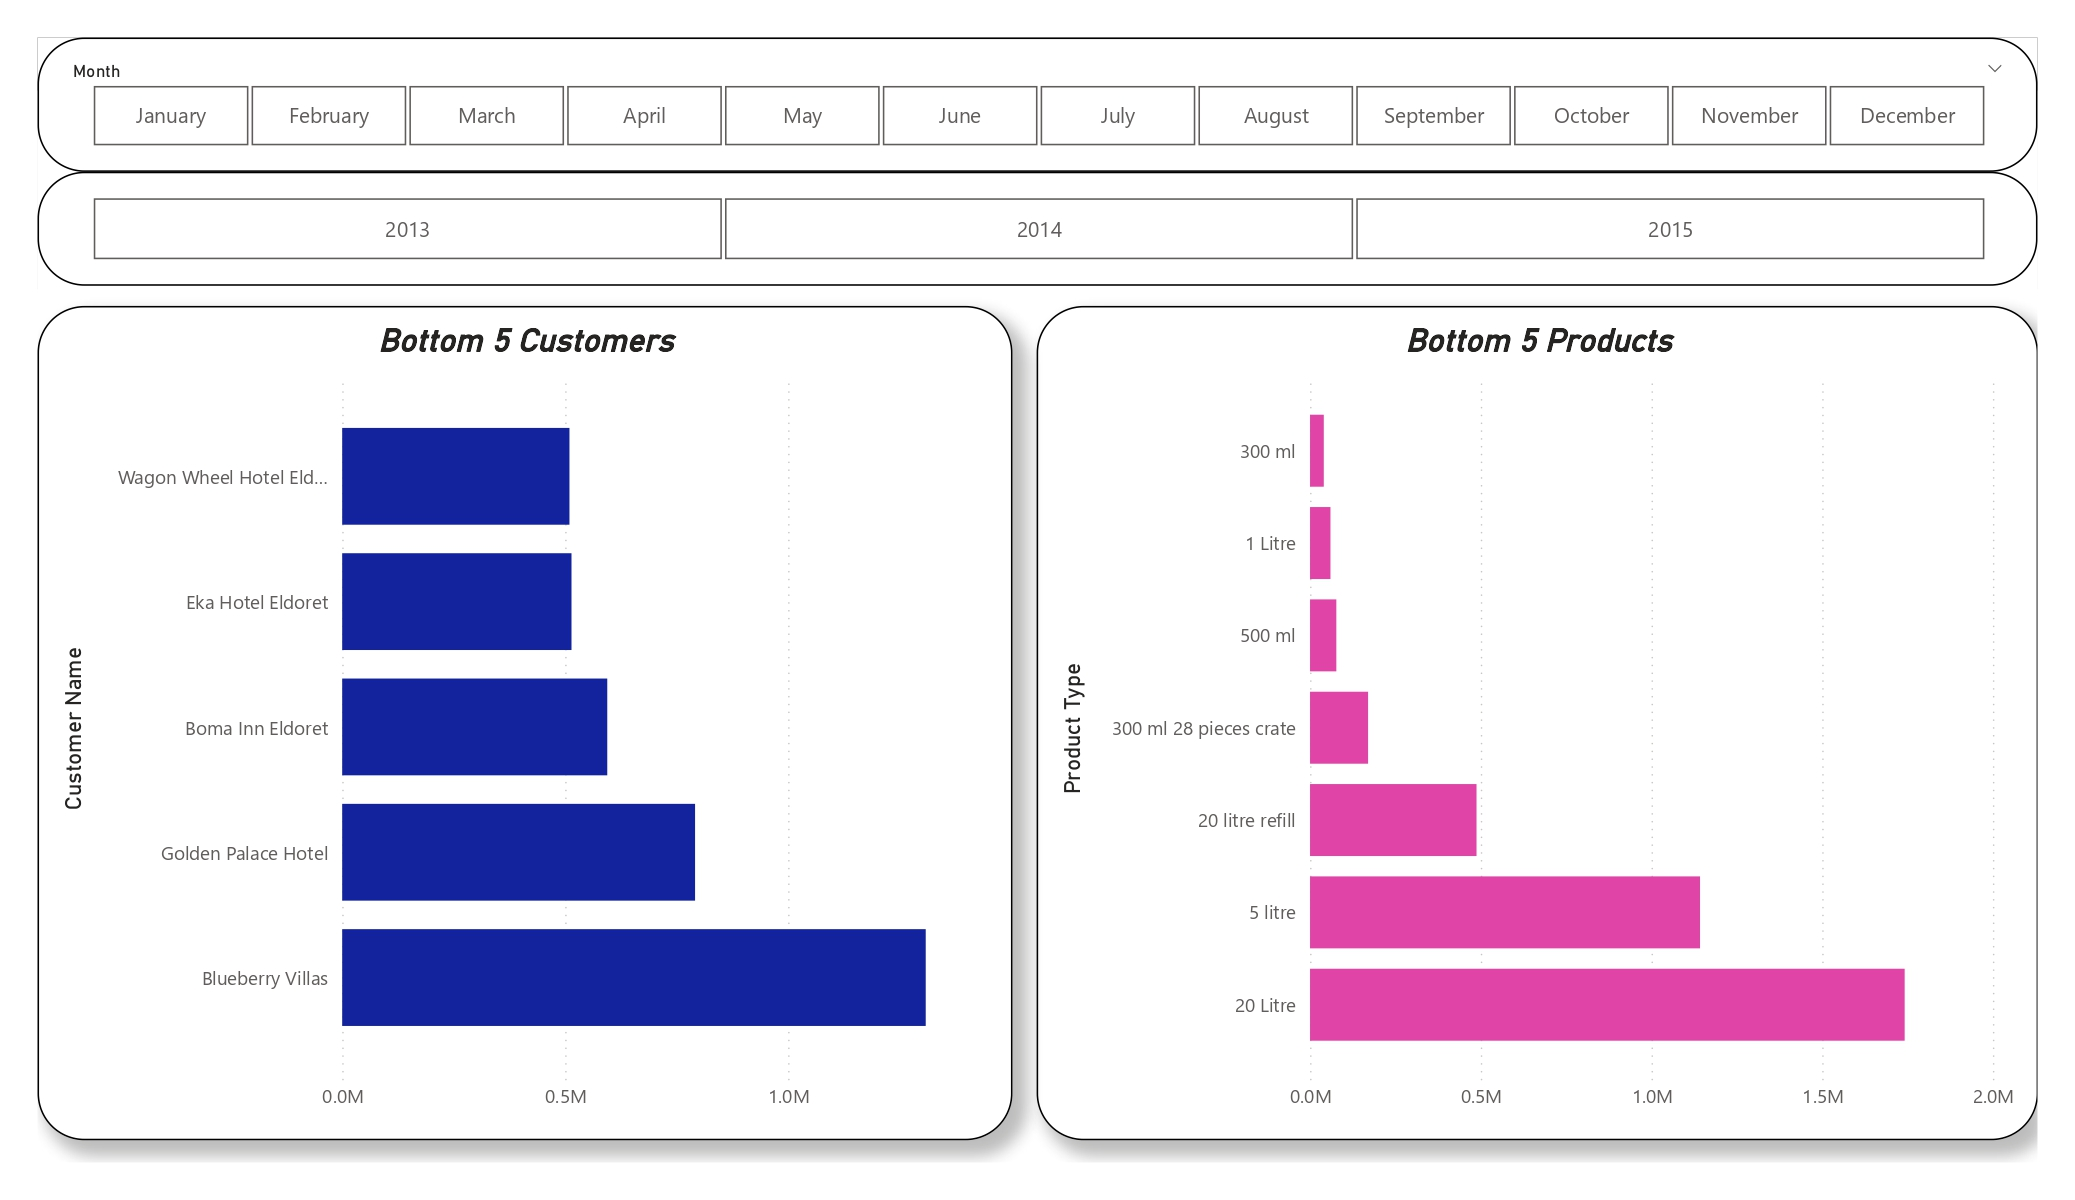

This screenshot's page, from the dashboard's own definition file:
{"tool":"powerbi","page":{"name":"Non Performing Insights","canvas":[1280,720],"ordinal":1},"visuals":[{"type":"clusteredBarChart","title":"Bottom 5 Customers","fields":{"Category":["Kaptagat Springs Sales Insights.Customer Name"],"Y":["Sum(Kaptagat Springs Sales Insights.Sales)"]},"box":[0,171.8,623.5,534.4],"z":0},{"type":"clusteredBarChart","title":"Bottom 5 Products","fields":{"Category":["Kaptagat Springs Sales Insights.Product Type"],"Y":["Sum(Kaptagat Springs Sales Insights.Sales)"]},"box":[639.4,171.8,641,534.4],"z":1},{"type":"slicer","fields":{"Values":["Kaptagat Springs Sales Insights.Order Date.Variation.Date Hierarchy.Month"]},"box":[0,0,1280.4,85.9],"z":2},{"type":"slicer","fields":{"Values":["Kaptagat Springs Sales Insights.Year Number"]},"box":[0,85.9,1280.4,73.2],"z":3}]}

Visuals, with their boxes in screenshot pixels (x1, y1, x2, y2):
"Bottom 5 Customers" clusteredBarChart: [x1=38, y1=306, x2=1012, y2=1141]
"Bottom 5 Products" clusteredBarChart: [x1=1037, y1=306, x2=2038, y2=1141]
slicer - Kaptagat Springs Sales Insights.Order Date.Variation.Date Hierarchy.Month: [x1=38, y1=38, x2=2038, y2=172]
slicer - Kaptagat Springs Sales Insights.Year Number: [x1=38, y1=172, x2=2038, y2=286]
